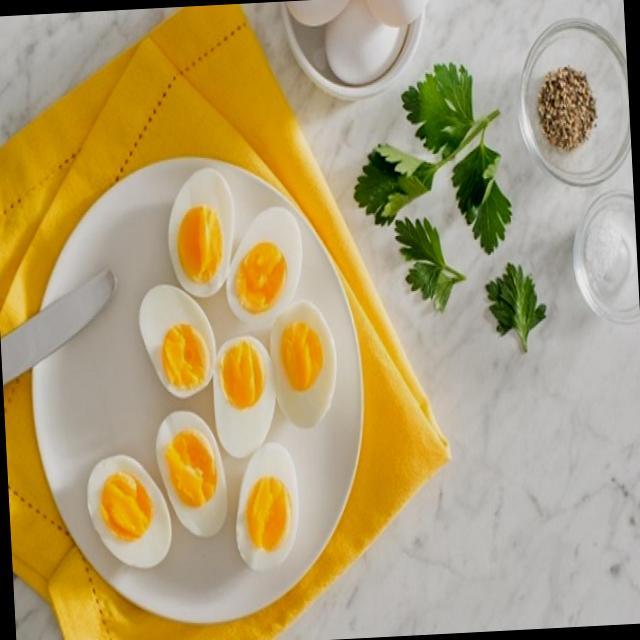trung luoc: (88, 456, 172, 568), (139, 285, 216, 398), (227, 207, 302, 323), (158, 413, 228, 535), (272, 302, 337, 427), (170, 169, 233, 295), (237, 443, 298, 570), (214, 336, 275, 457)
